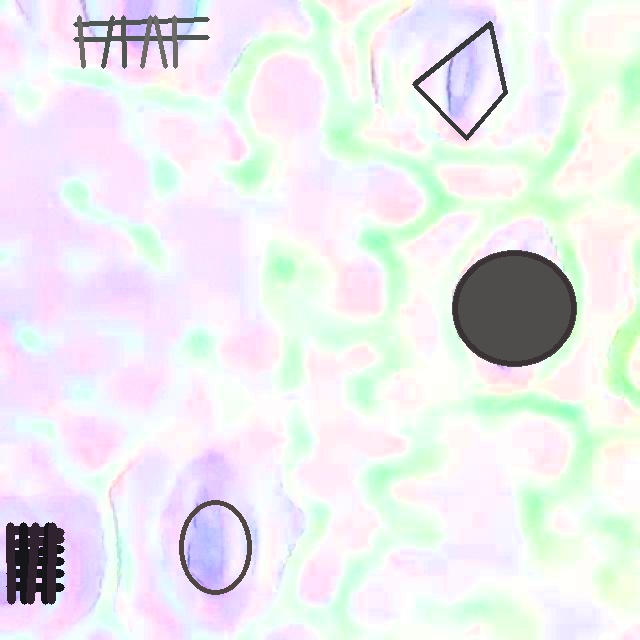open: (451, 250, 576, 365), (412, 21, 507, 140), (73, 15, 209, 68), (178, 499, 252, 594), (6, 523, 64, 603)
